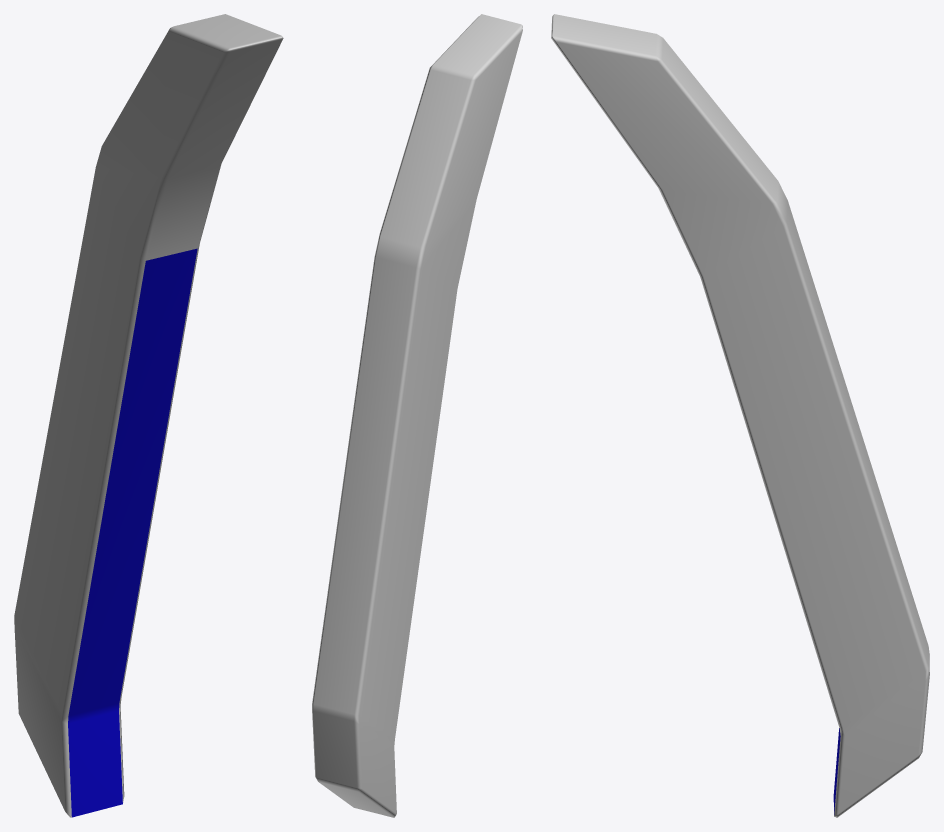
The model's file is Wing.fbx.
3 views of the same model, side by side, from view 1: azimuth 30°, elevation 25°; view 2: azimuth 150°, elevation 25°; view 3: azimuth 270°, elevation 25° (orthographic). The views are drawn at different scales.
Visible parts, largest first — view 1: Wing; view 2: Wing; view 3: Wing.
Boxes of the visible parts, left/top/right/bottom form: Wing: left=14, top=14, right=283, bottom=817; Wing: left=312, top=14, right=522, bottom=817; Wing: left=551, top=14, right=929, bottom=817.
Bounding box in the file's own units: 15.15 × 203 × 89.15.
